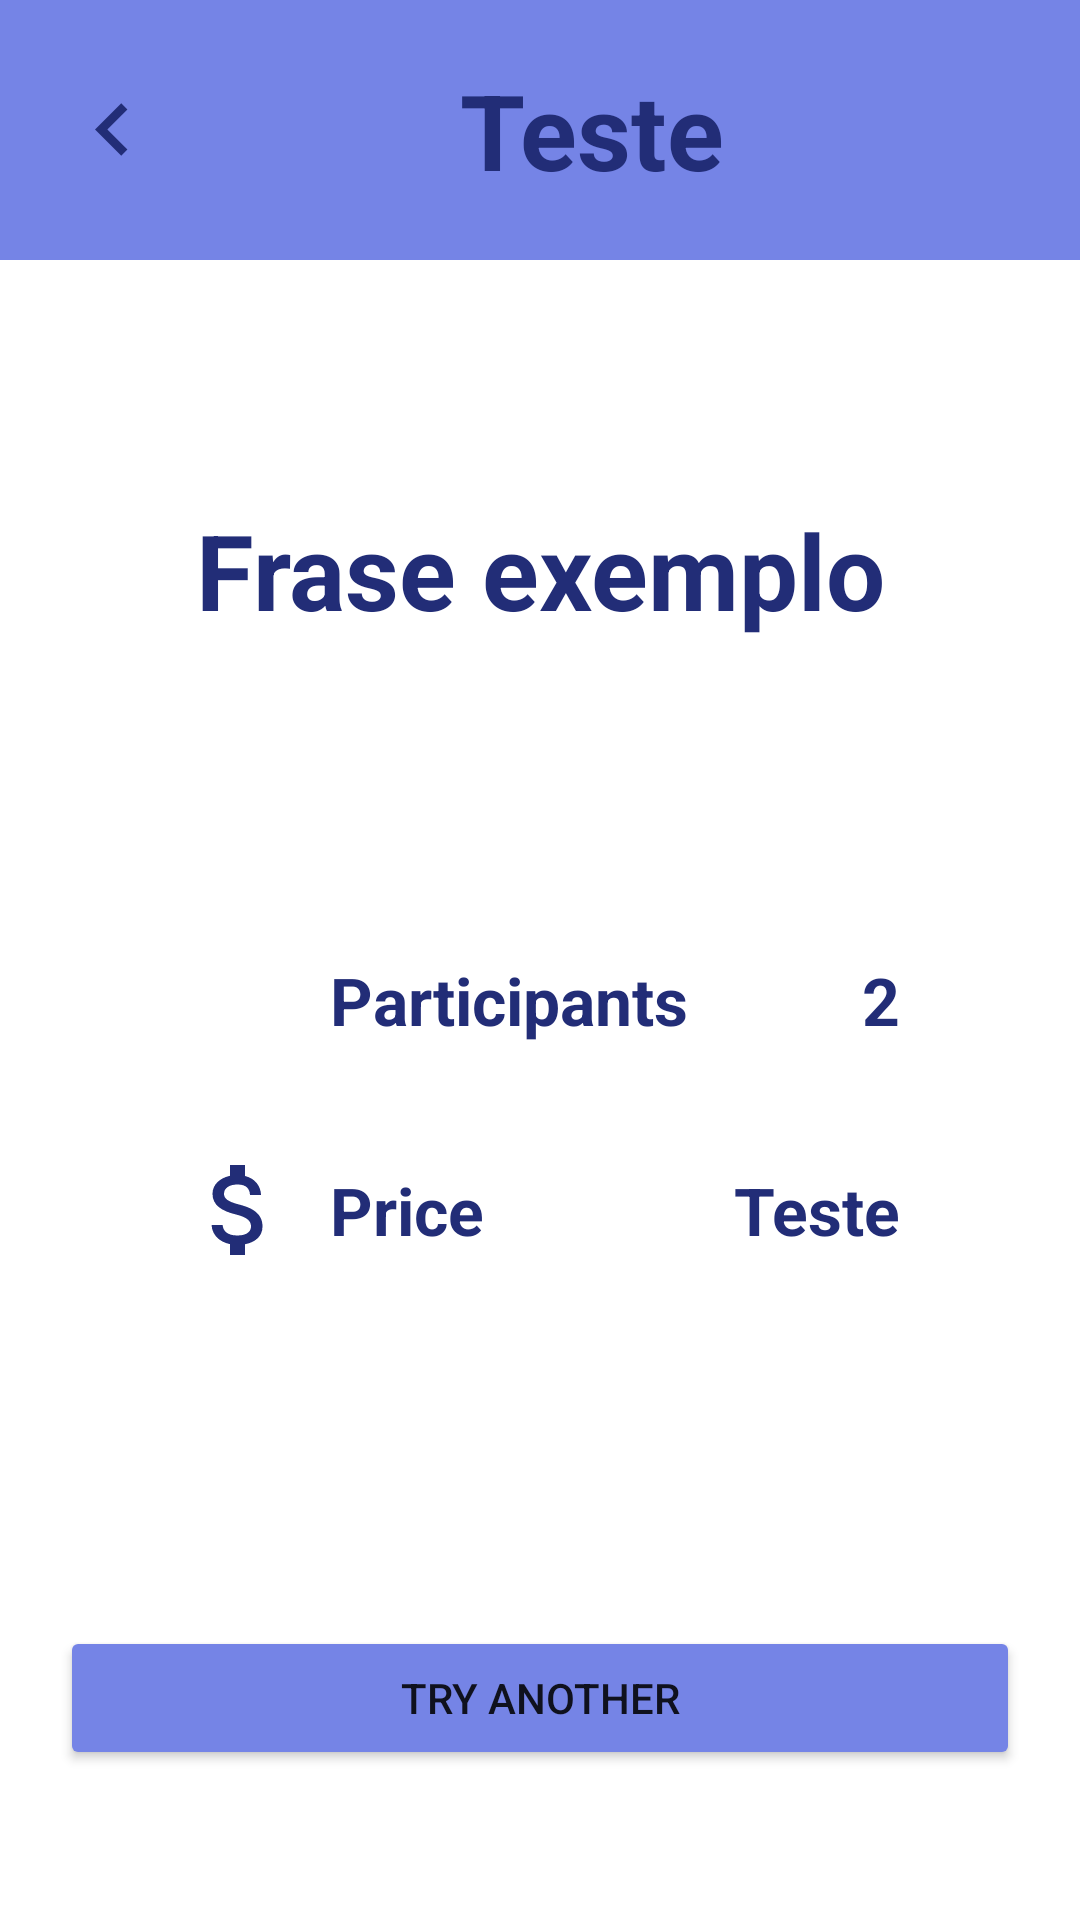

Icon click points for this 1080px×1920px phone screenshot, format (x=x, y=y):
arrow left: (x=111, y=129)
money: (x=237, y=1210)
